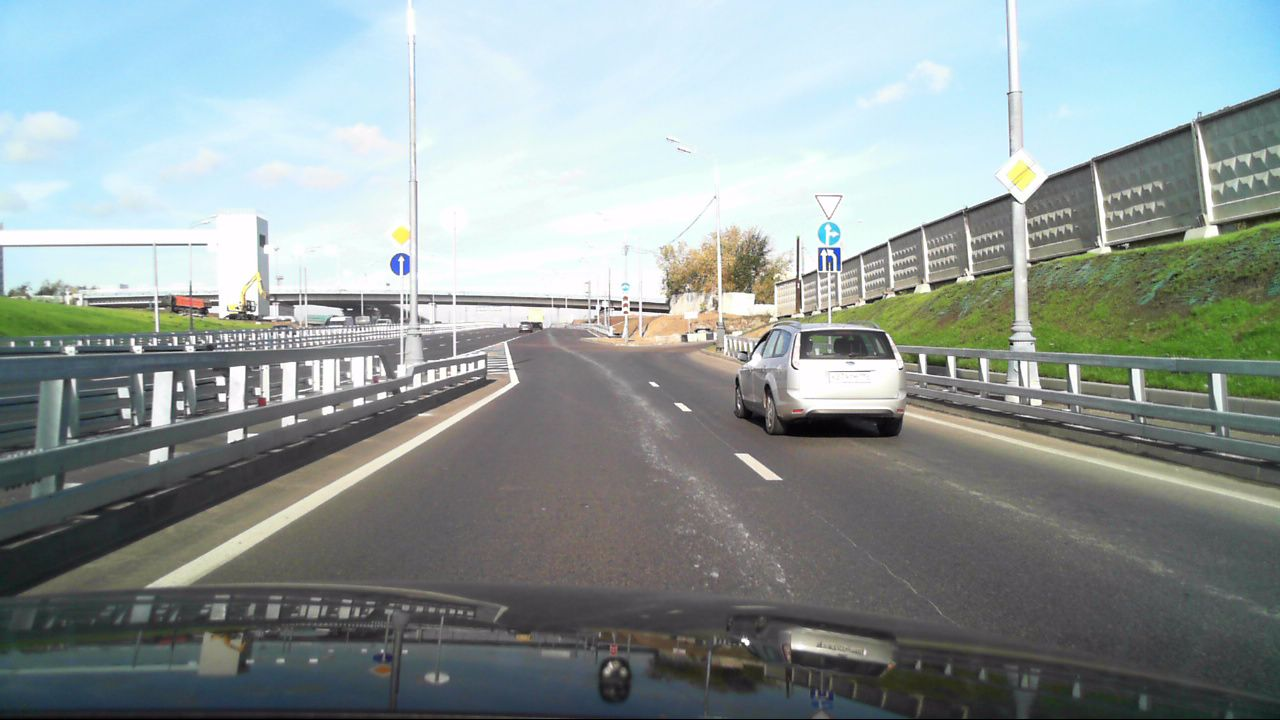main road: (994, 145, 1050, 204)
